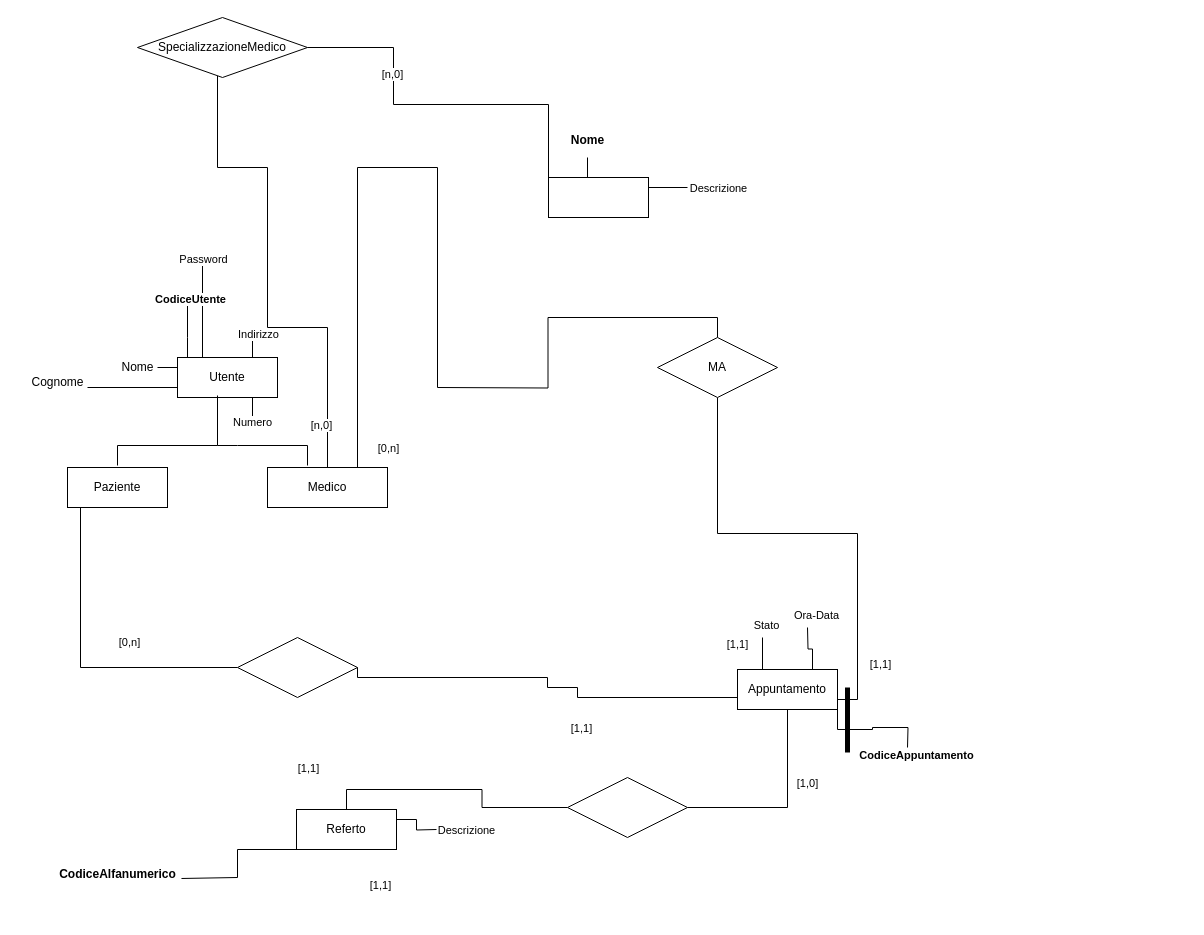
This 1204x935 diagram has some shape labels left out. Each missing label, with the centre of its shape:
PA: [627,807]
PR: [297,667]
Specializzazione: [598,197]
